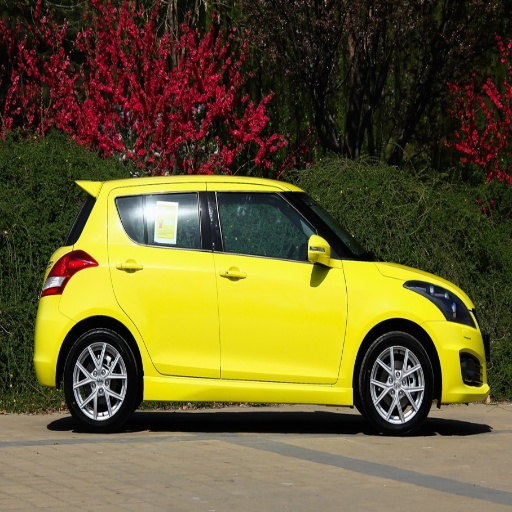back_right_door: (108, 185, 218, 378)
front_right_door: (210, 185, 346, 383)
